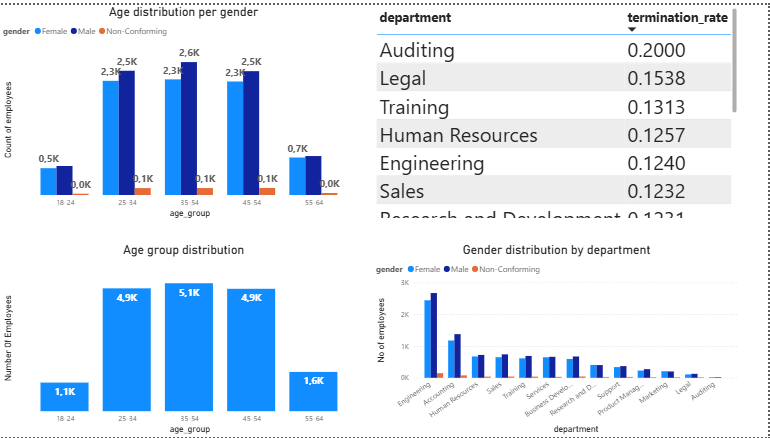

The dashboard page shown, as its layout file describes it:
{"tool":"powerbi","page":{"name":"Page 2","canvas":[1280,720],"ordinal":1},"visuals":[{"type":"columnChart","title":"Age group distribution","fields":{"Y":["Sum(age_group.count)"],"Category":["age_group.age_group"]},"box":[0,396.7,611.7,323.3],"z":0},{"type":"clusteredColumnChart","title":"Age distribution per gender","fields":{"Category":["age_group  Gender.age_group"],"Y":["Sum(age_group  Gender.count)"],"Series":["age_group  Gender.gender"]},"box":[0,0,611.7,360],"z":1},{"type":"tableEx","fields":{"Values":["Turnover_rate.department","Turnover_rate.termination_rate"]},"box":[622,0,612,360],"z":2},{"type":"clusteredColumnChart","title":"Gender distribution by department","fields":{"Category":["gender_department.department"],"Y":["Sum(gender_department.count)"],"Series":["gender_department.gender"]},"box":[622,397,612,323],"z":3},{"type":"tableEx","box":[100,100,300,300],"z":4}]}

Visuals, with their boxes in screenshot pixels (x1, y1, x2, y2), scaled from the page's 1280x720 canvas onto the 770x438 screenshot:
"Age group distribution" columnChart: [0, 241, 368, 437]
"Age distribution per gender" clusteredColumnChart: [0, 0, 368, 219]
tableEx - Turnover_rate.department x Turnover_rate.termination_rate: [374, 0, 742, 219]
"Gender distribution by department" clusteredColumnChart: [374, 242, 742, 437]
tableEx: [60, 61, 241, 243]
